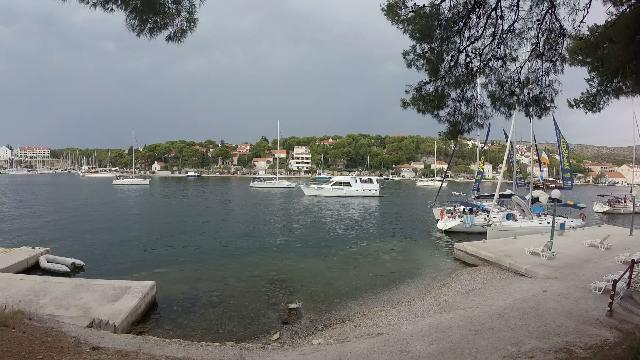Sailboat: (246, 173, 300, 190), (108, 171, 158, 189), (412, 174, 451, 188)
ferry: (292, 162, 386, 202)
